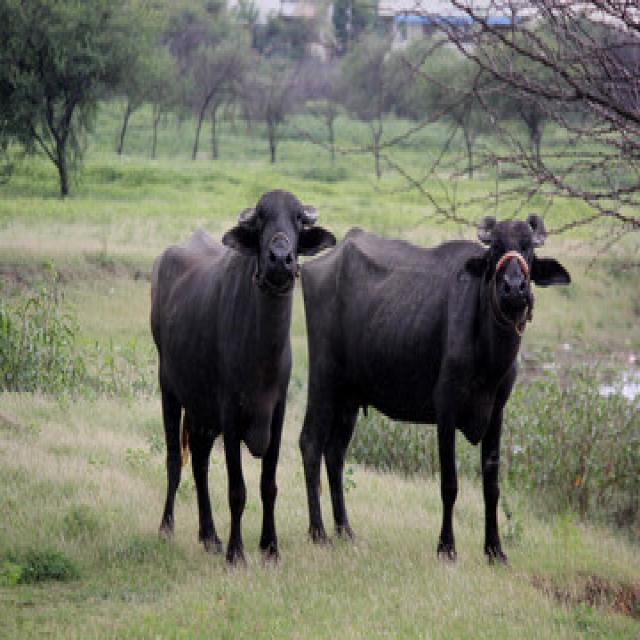Buffalo: (153, 185, 335, 561)
